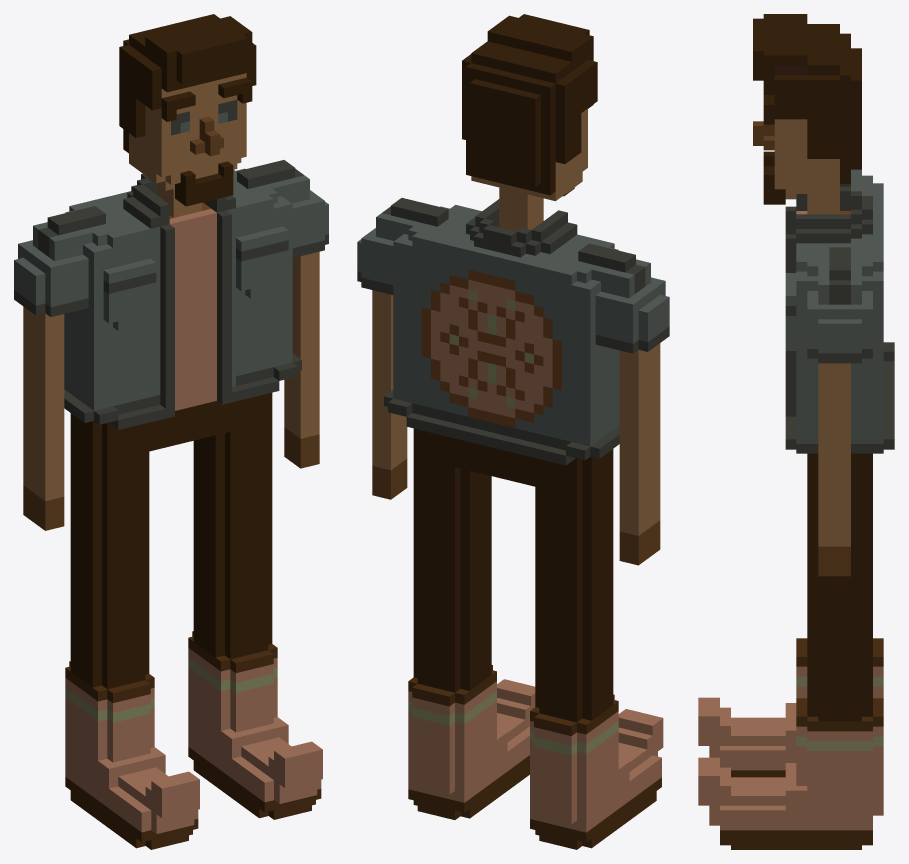
Rendered from long_man04.obj.
3 renders of one model, left to right at view 1: azimuth 30°, elevation 25°; view 2: azimuth 150°, elevation 25°; view 3: azimuth 270°, elevation 25°, orthographic.
Size of the model in its own units: 31 by 78 by 18.
Materials: 1 (1 with a texture image).
